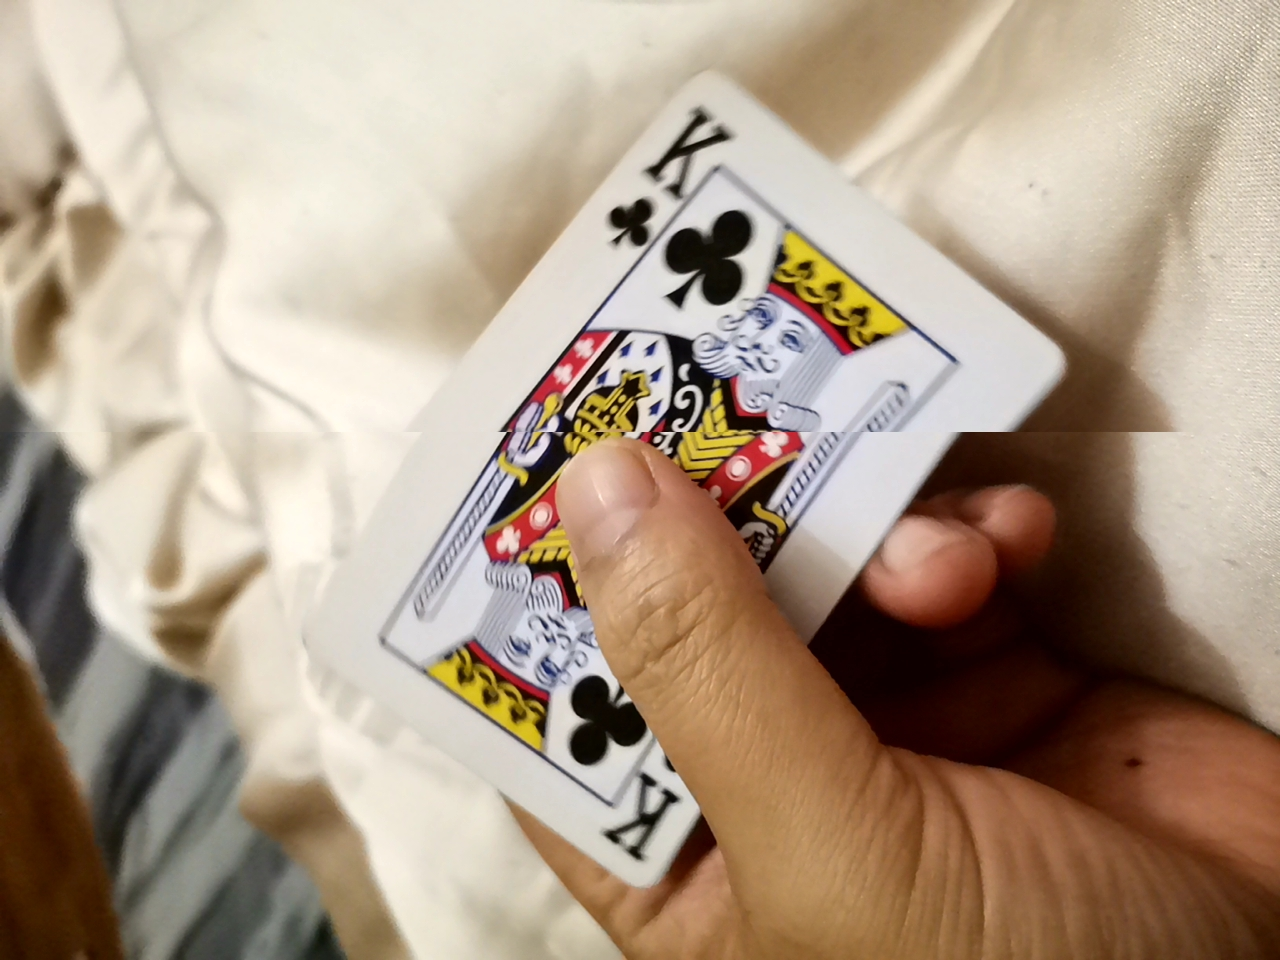mh k: (325, 53, 1077, 935)
